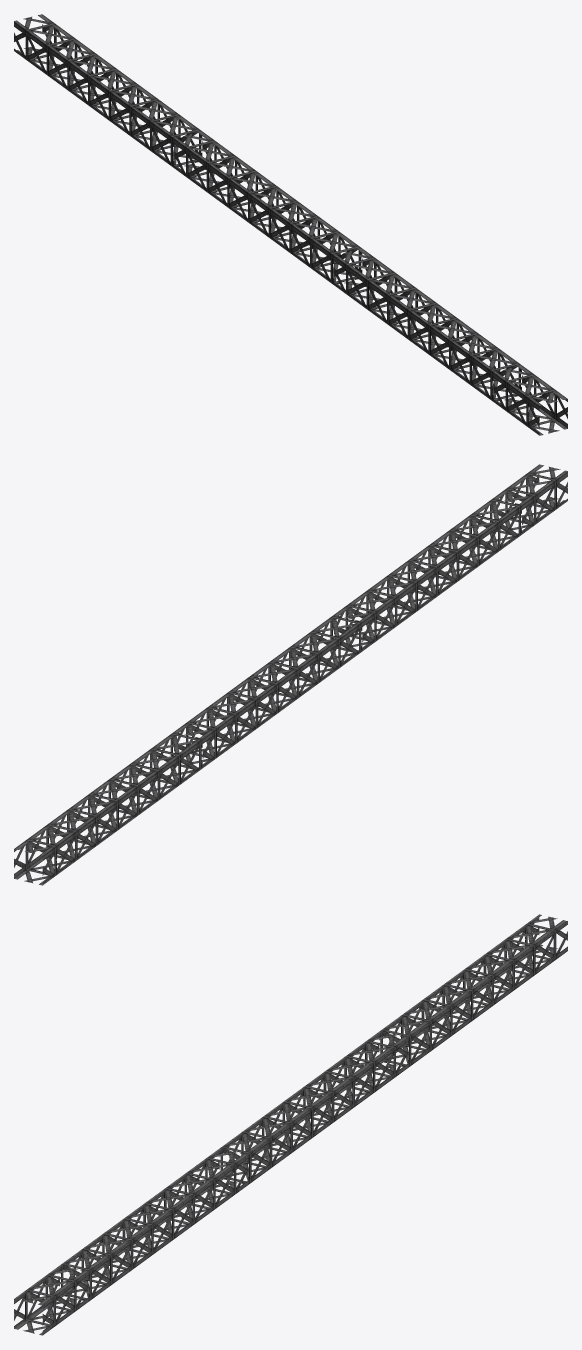
Rendered from TrainStationTrusses02.fbx.
3 renders of one model, top to bottom at view 1: azimuth 30°, elevation 25°; view 2: azimuth 150°, elevation 25°; view 3: azimuth 330°, elevation 25°, orthographic.
Visible parts, largest first — view 1: EndTrusses02; view 2: EndTrusses02; view 3: EndTrusses02.
Boxes of the visible parts, x1=… form: EndTrusses02: x1=14, y1=14, x2=567, y2=435; EndTrusses02: x1=14, y1=464, x2=567, y2=885; EndTrusses02: x1=14, y1=914, x2=567, y2=1335.
Size of the model in its own units: 0.1881 by 0.1887 by 6.03.
